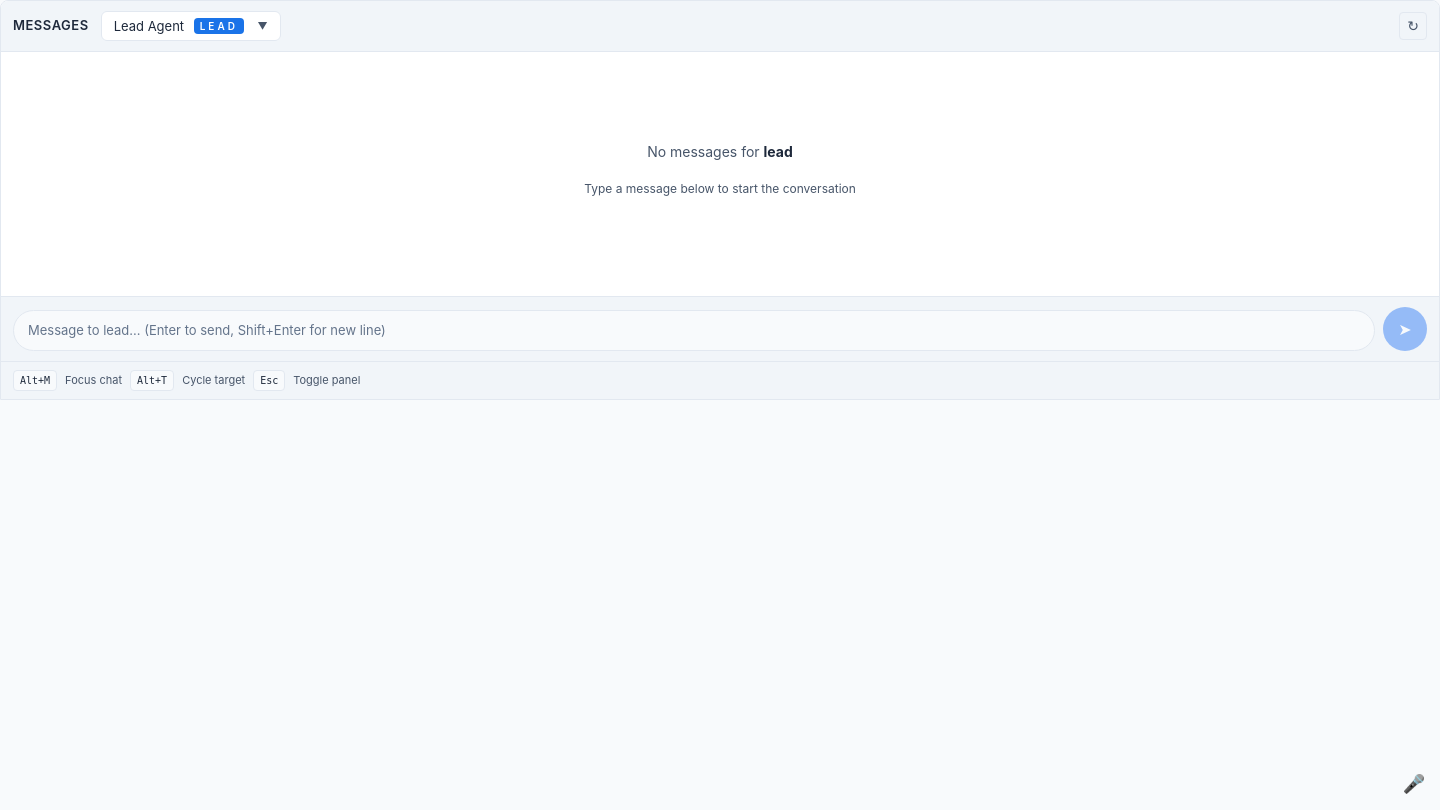
Test case: ChatBox › disables send button while sending
In the text box with placeholder "Message to lead": (694, 330) left=13, top=310, right=1375, bottom=351, type "Test message"
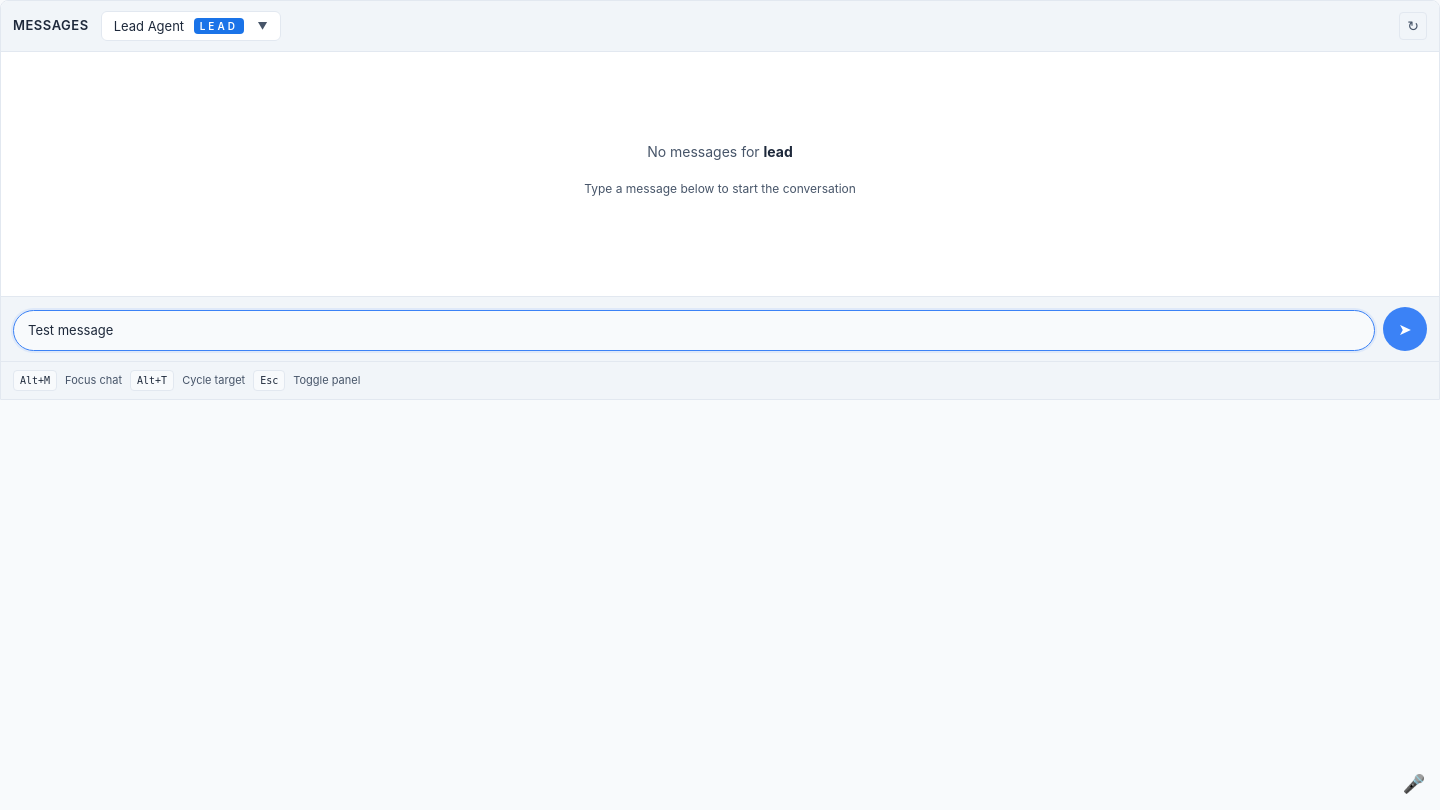
Click the button named "send message": click(1405, 329) left=1383, top=307, right=1427, bottom=351
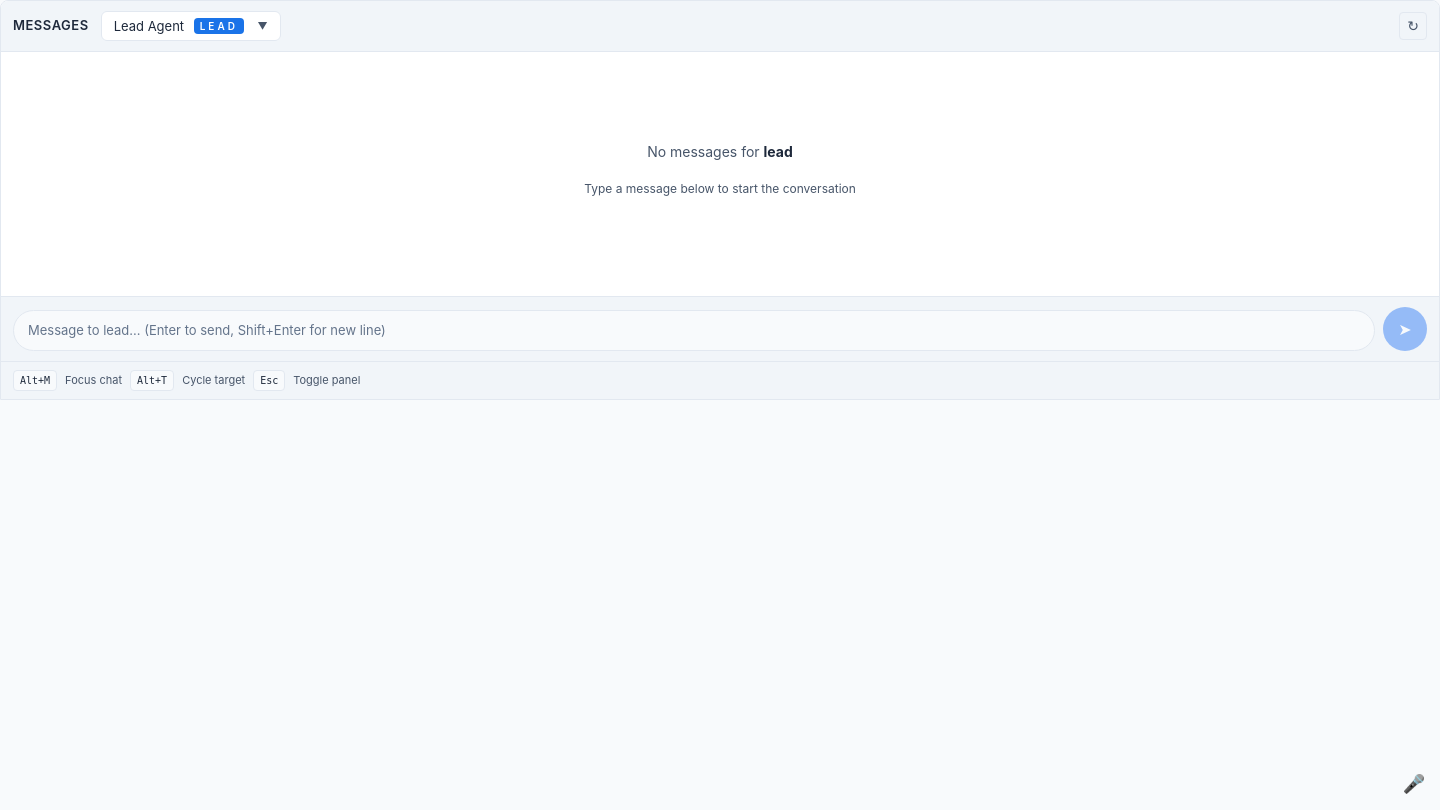
Check: the button named "send message" is disabled, box left=1383, top=307, right=1427, bottom=351
